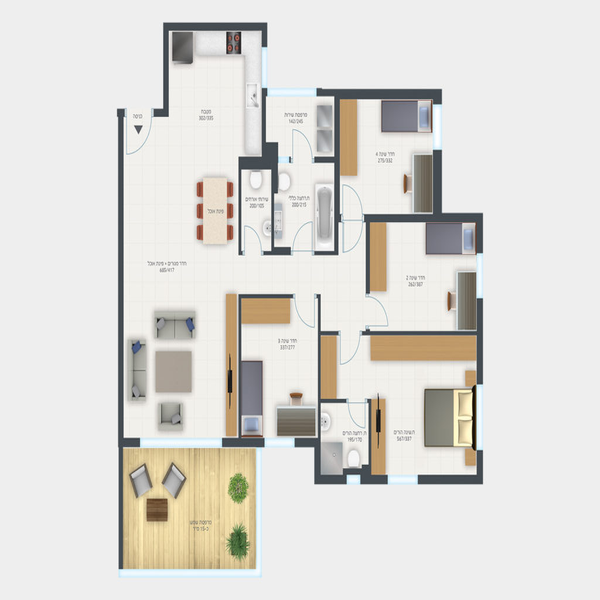door: (123, 106, 156, 159), (289, 290, 318, 327), (339, 219, 368, 255), (340, 183, 367, 221), (365, 292, 393, 328), (290, 129, 317, 166), (293, 217, 316, 260), (342, 331, 366, 370), (241, 219, 266, 254), (344, 397, 369, 430)
room: (118, 288, 243, 447), (365, 334, 483, 485), (163, 21, 270, 170), (364, 216, 486, 338), (334, 86, 442, 220), (236, 292, 321, 442), (269, 161, 339, 257)
wall: (118, 108, 123, 569), (318, 90, 440, 100), (165, 22, 268, 31), (370, 215, 484, 223), (365, 331, 482, 338), (317, 295, 321, 483), (435, 151, 444, 222), (237, 296, 241, 446), (421, 475, 480, 485), (477, 300, 483, 381), (261, 90, 267, 163), (165, 24, 169, 111), (477, 215, 485, 253), (294, 438, 317, 448), (242, 294, 290, 298)
